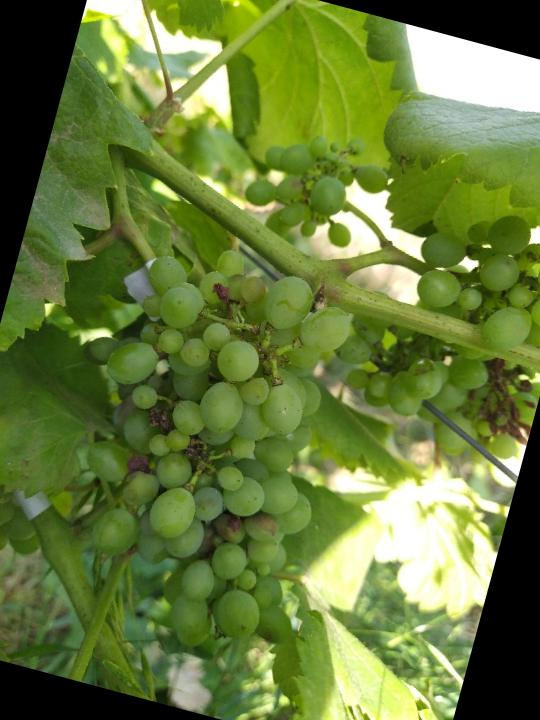grape: (15, 218, 389, 680), (322, 180, 540, 474), (233, 114, 402, 263)
